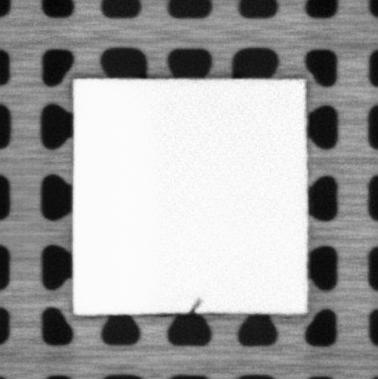DIE_INK: (188, 297, 204, 312)
